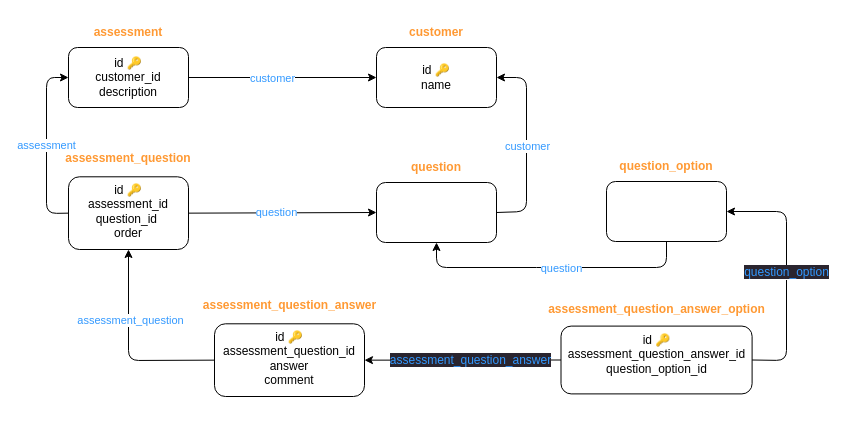
Image size: 846x433. Some labels were removed from this diagram. The box of each missing label's shape, as (x1, y1, x2, y2) in pixels:
id 🔑 description customer_id: (376, 182, 496, 242)
id 🔑 question_id description: (606, 180, 726, 242)
